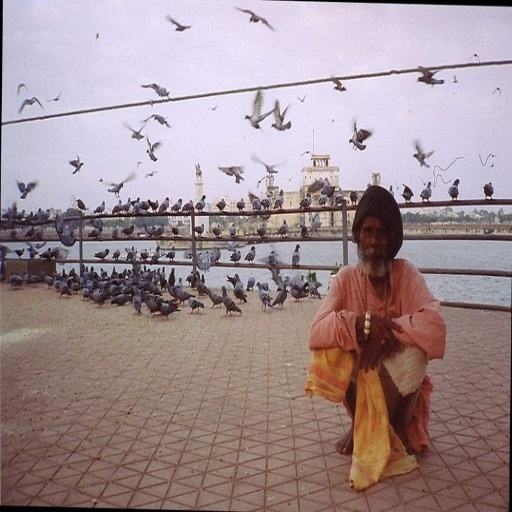hand: (364, 311, 401, 354), (358, 336, 380, 373)
